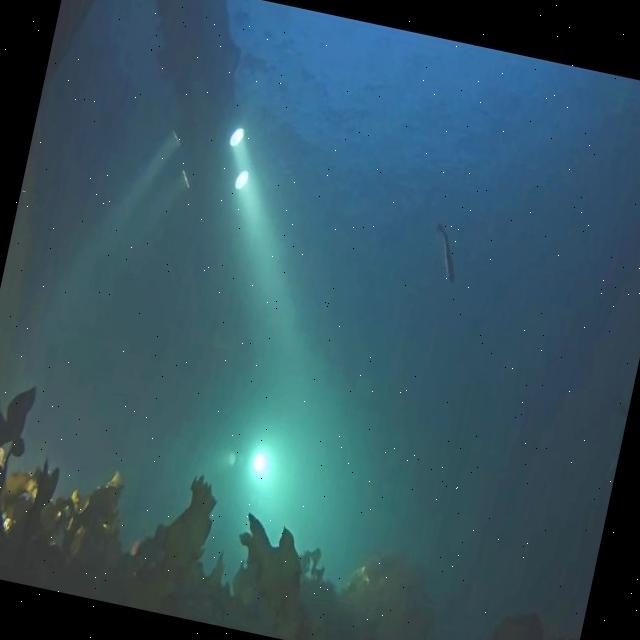fish: (423, 220, 466, 284)
